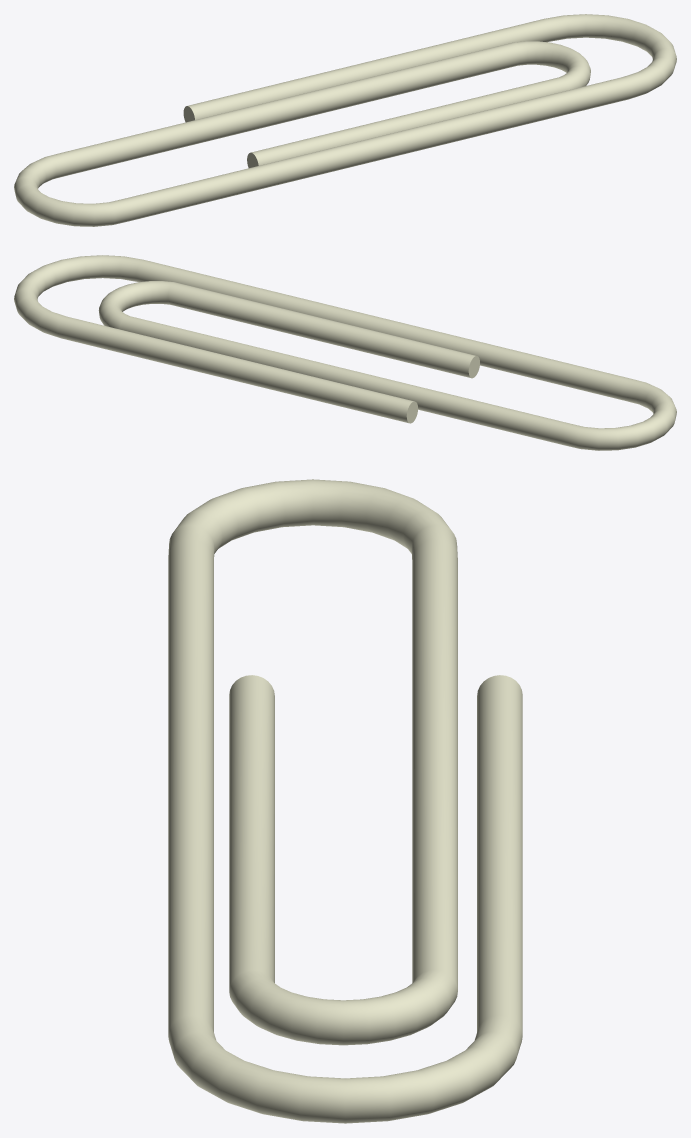
Rendered from paperclip.dae.
The picture shows the model from 3 angles, top to bottom: view 1: azimuth 30°, elevation 25°; view 2: azimuth 150°, elevation 25°; view 3: azimuth 270°, elevation 25°; orthographic projection. The views are drawn at different scales.
Parts seen in each view (by area): view 1: SketchUp; view 2: SketchUp; view 3: SketchUp.
Boxes of the visible parts, x1,y1,x2,y2 form: SketchUp: (14, 14, 676, 226); SketchUp: (14, 255, 676, 450); SketchUp: (168, 479, 522, 1123).
Bounding box in the file's own units: 95.9 × 23.25 × 2.99.
